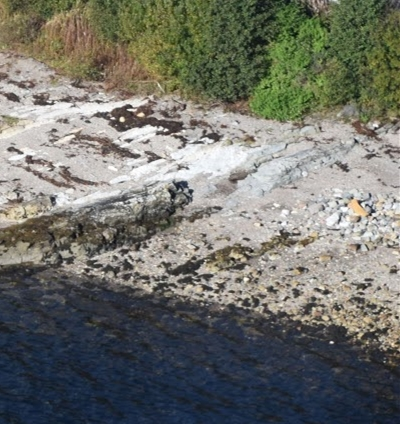white_in_green: (333, 182, 384, 229)
